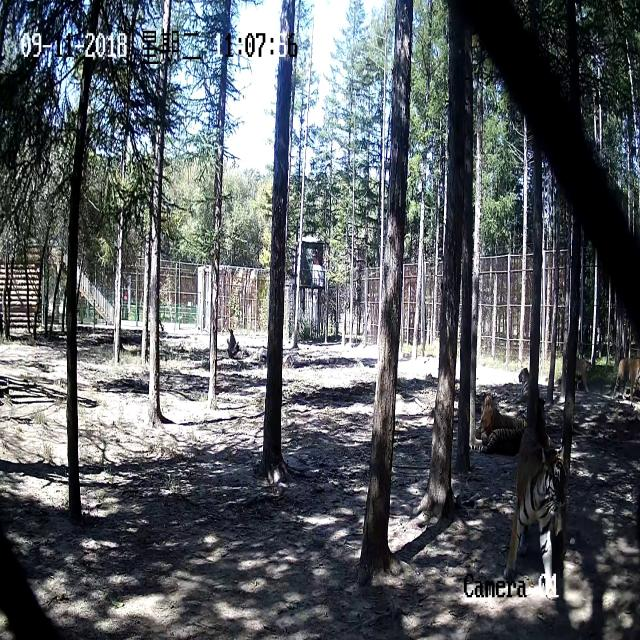Tiger: (505, 420, 565, 608), (469, 388, 518, 444), (608, 356, 640, 394), (511, 367, 541, 399)
